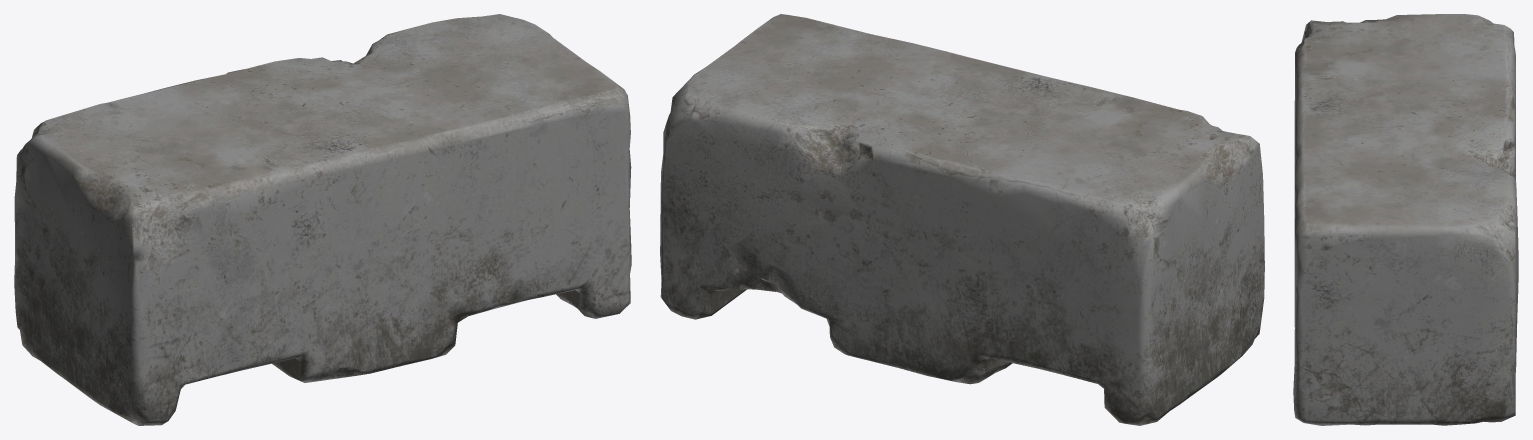
File: SM_Rectangular_Barrier.glb
3 views of the same model, side by side, from view 1: azimuth 30°, elevation 25°; view 2: azimuth 150°, elevation 25°; view 3: azimuth 270°, elevation 25° (orthographic). The views are drawn at different scales.
Parts seen in each view (by area): view 1: SM_Rectangular_Barrier; view 2: SM_Rectangular_Barrier; view 3: SM_Rectangular_Barrier.
Boxes of the visible parts, x1=… form: SM_Rectangular_Barrier: x1=14, y1=14, x2=631, y2=425; SM_Rectangular_Barrier: x1=660, y1=14, x2=1264, y2=425; SM_Rectangular_Barrier: x1=1293, y1=14, x2=1518, y2=425.
Size of the model in its own units: 1.76 by 0.7539 by 0.7671.
1 material, 1 textured.
